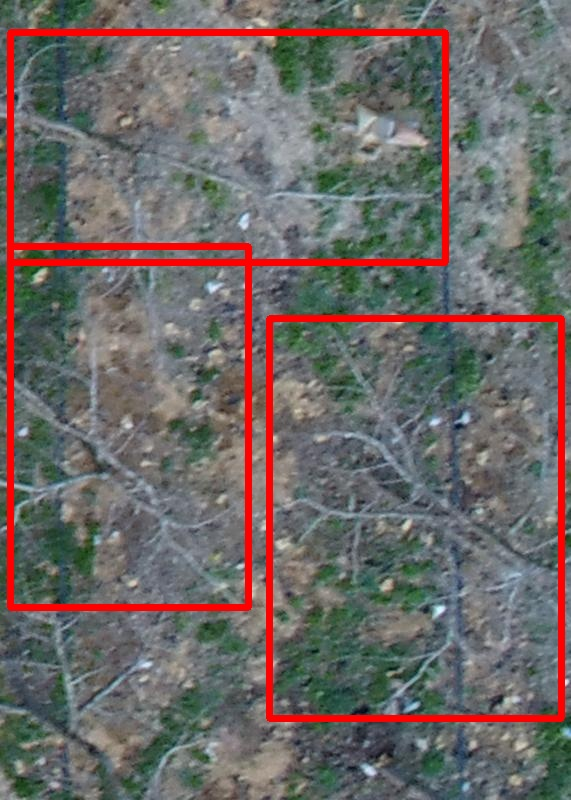apple: (269, 318, 561, 718), (10, 32, 445, 262), (10, 246, 248, 607)
